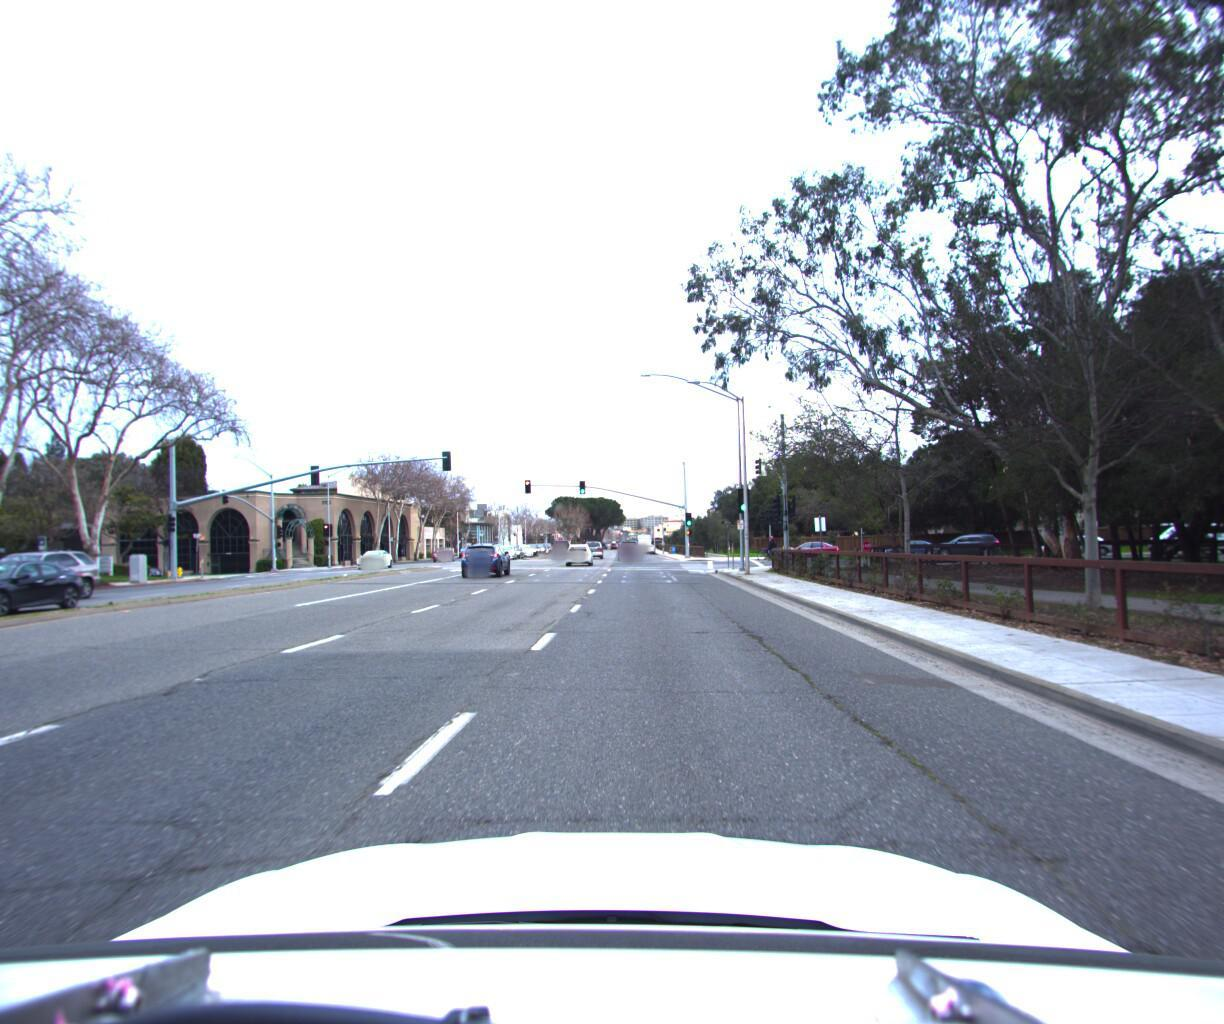bicycle: (752, 528, 781, 553)
car: (0, 560, 97, 628), (0, 552, 100, 609), (455, 537, 511, 575), (925, 526, 999, 551), (774, 534, 840, 554), (354, 543, 392, 565), (560, 537, 592, 561), (618, 536, 641, 557), (588, 534, 610, 553), (555, 534, 577, 553), (428, 543, 454, 558)
